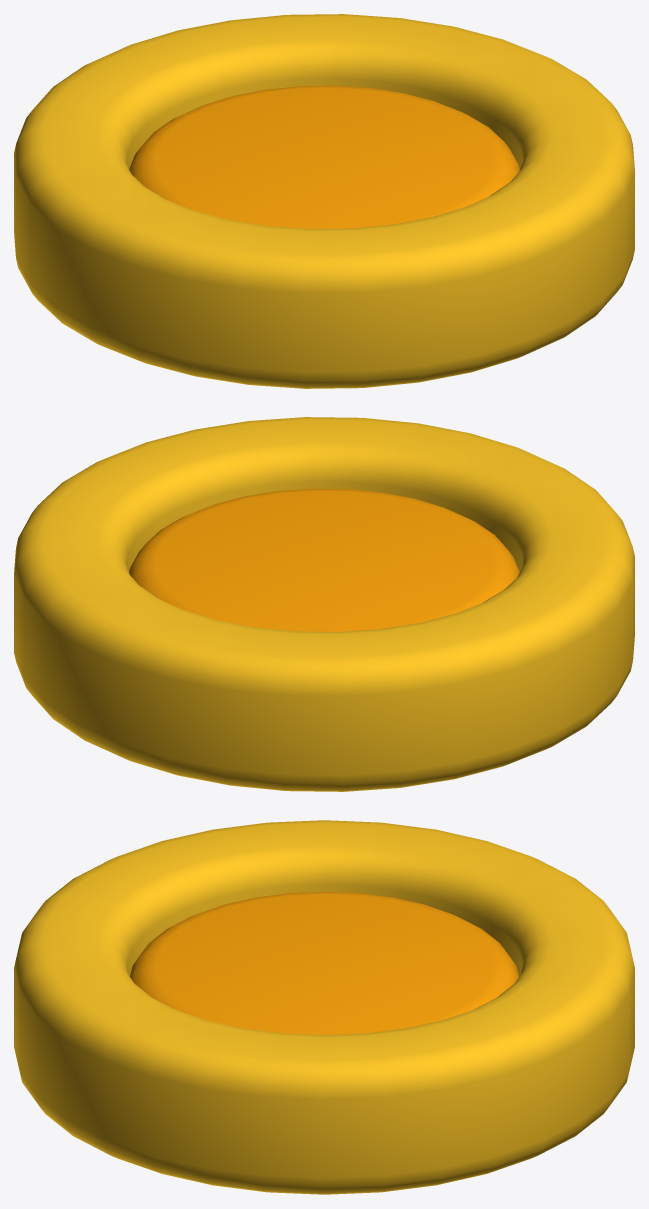
File: Coin.fbx
3 renders of one model, top to bottom at view 1: azimuth 30°, elevation 25°; view 2: azimuth 150°, elevation 25°; view 3: azimuth 270°, elevation 25°, orthographic.
Visible parts, largest first — view 1: Cylinder.071; view 2: Cylinder.071; view 3: Cylinder.071.
Part boxes in pixels (left/top/right/bottom): Cylinder.071: left=14, top=14, right=634, bottom=388; Cylinder.071: left=14, top=417, right=634, bottom=791; Cylinder.071: left=14, top=820, right=634, bottom=1194.
Size of the model in its own units: 0.6185 by 0.1444 by 0.6185.
